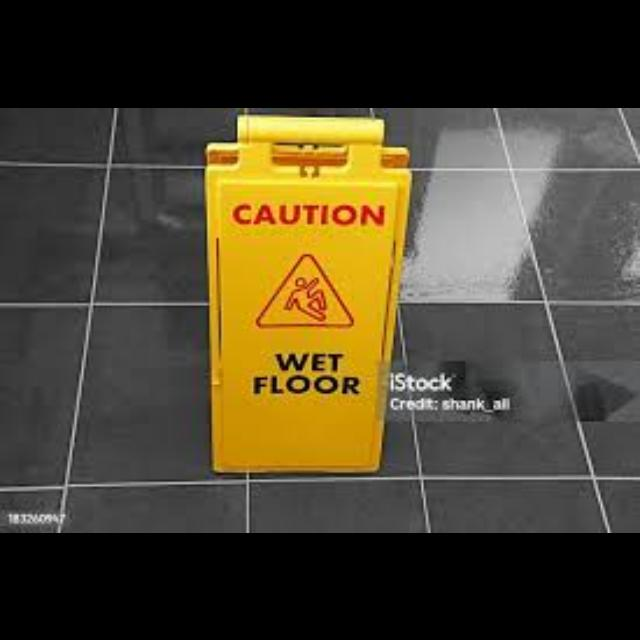tron truot: (205, 114, 407, 468)
